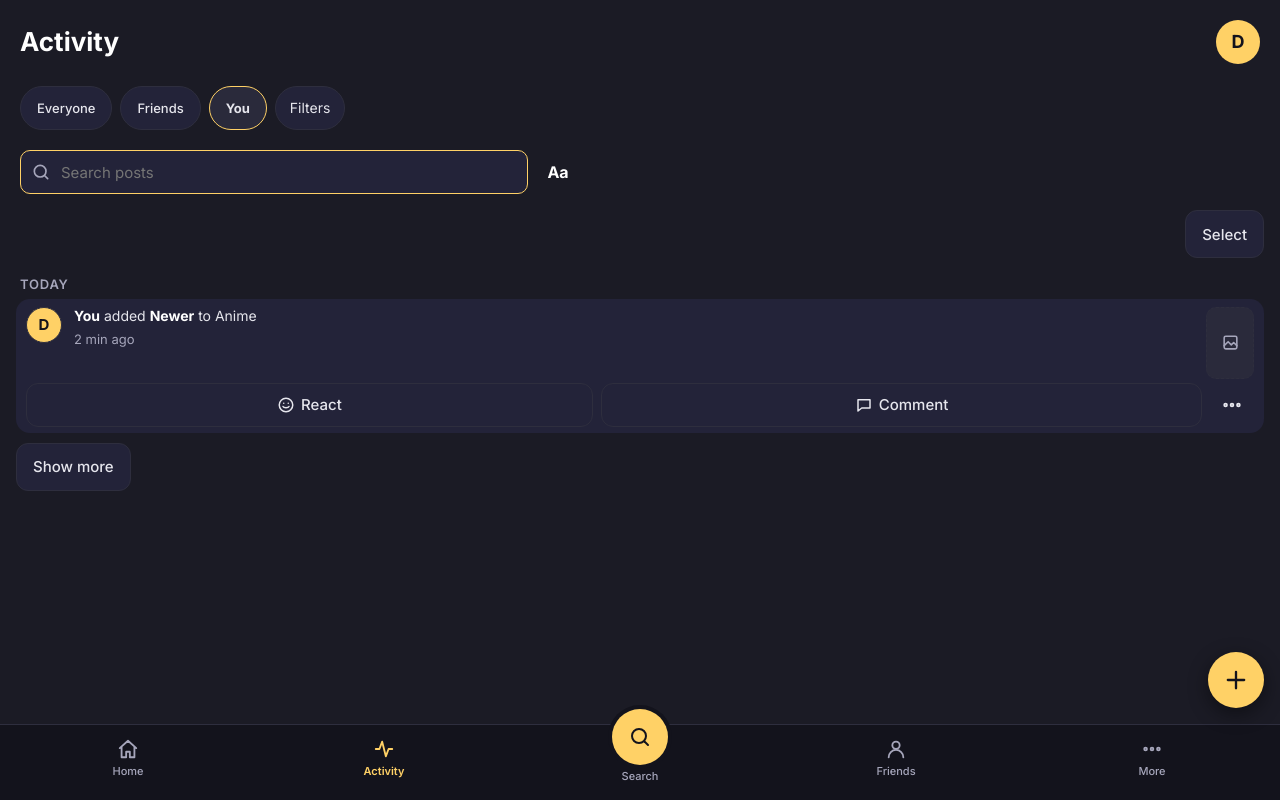
ActivityScreen › Show more fetches with before & beforeId and appends
Expected: the link "Newer" is shown, [150, 307, 194, 324]
Click the button "Show more".
click(73, 467)  # box [16, 443, 131, 491]
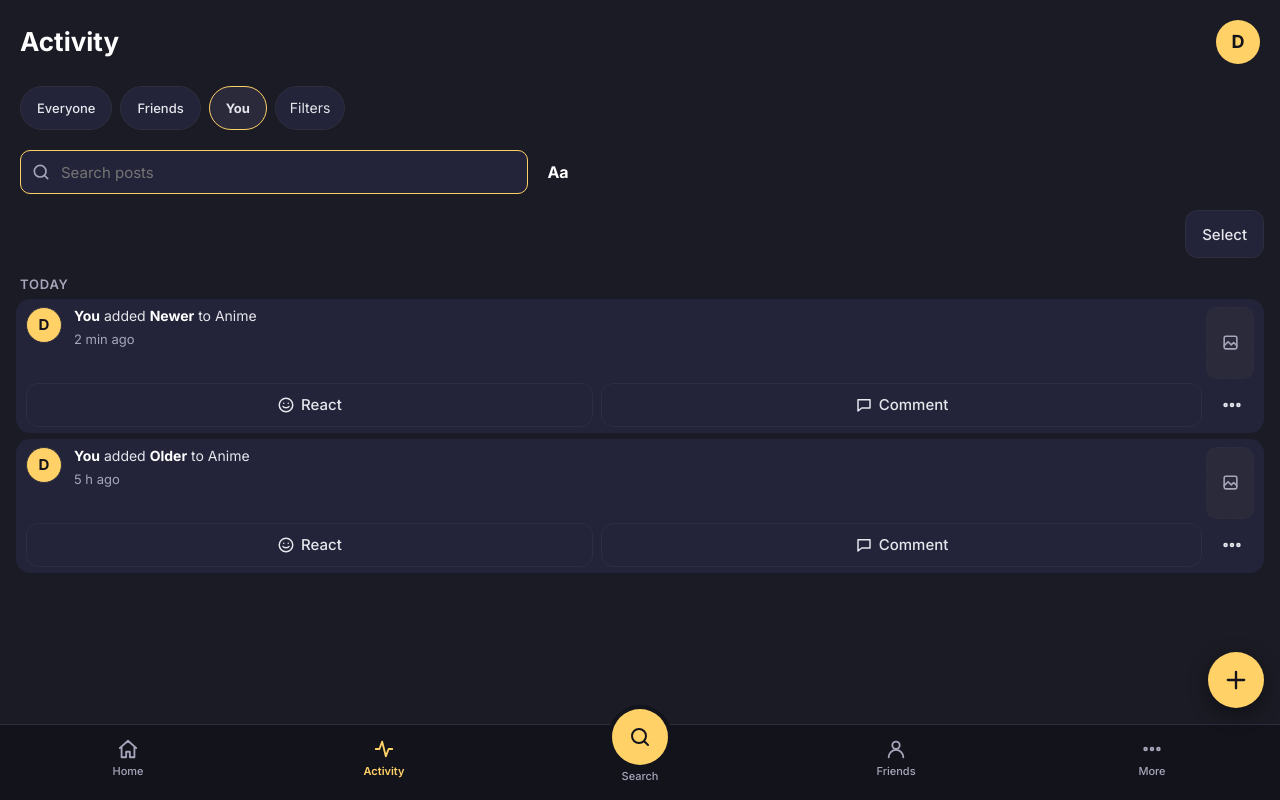
Expected: the link "Newer" is shown, [150, 307, 194, 324]
Expected: the link "Older" is shown, [150, 447, 187, 464]
Expected: the button "Show more" is gone
